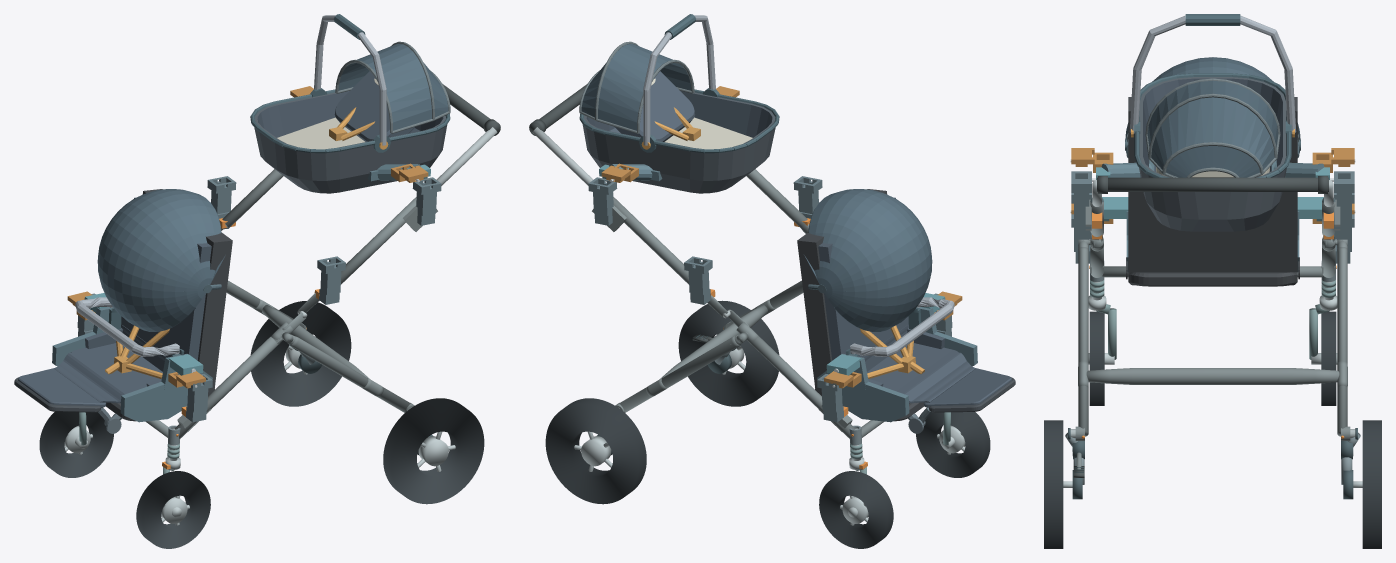
File: D06_w650_state1_wheel_M.glb
The picture shows the model from 3 angles, left to right: view 1: azimuth 30°, elevation 25°; view 2: azimuth 150°, elevation 25°; view 3: azimuth 270°, elevation 25°; orthographic projection. The views are drawn at different scales.
Visible parts, largest first — view 1: D06_Lower, D06_Upper, RL_tire.008, RR_tire.008, FL_tire.008, D06_Lower_Mount_L, FR_tire.008, V46_rear_leg_-1.009, main_lower_-1.009, main_upper_-1.009, Universal_Cabin_Receiver_M_-1, Universal_Cabin_Receiver_H_-1 (+7 smaller); view 2: D06_Lower, D06_Upper, RR_tire.008, RL_tire.008, FR_tire.008, D06_Lower_Mount_L, FL_tire.008, V46_rear_leg_1.009, main_lower_1.009, main_upper_1.009, Universal_Cabin_Receiver_M_1, Universal_Cabin_Receiver_H_1 (+7 smaller); view 3: D06_Upper, D06_Lower, V46_rearbar.009, round_handle.008, RL_tire.008, RR_tire.008, V46_rear_leg_1.009, V46_rear_leg_-1.009, D06_Lower_Mount_L, D06_Upper_Mount_H, FL_tire.008, FR_tire.008 (+7 smaller).
Boxes of the visible parts, x1,y1,x2,y2 form: D06_Lower: [14, 189, 232, 433]; D06_Upper: [250, 14, 450, 193]; RL_tire.008: [383, 398, 484, 504]; RR_tire.008: [250, 301, 351, 406]; FL_tire.008: [136, 471, 210, 548]; D06_Lower_Mount_L: [52, 293, 212, 422]; FR_tire.008: [39, 412, 113, 477]; V46_rear_leg_-1.009: [290, 336, 410, 412]; main_lower_-1.009: [175, 337, 281, 438]; main_upper_-1.009: [341, 197, 416, 284]; Universal_Cabin_Receiver_M_-1: [317, 256, 345, 304]; Universal_Cabin_Receiver_H_-1: [412, 177, 441, 225]; D06_Lower: [797, 189, 1015, 433]; D06_Upper: [579, 14, 779, 193]; RR_tire.008: [545, 398, 646, 504]; RL_tire.008: [678, 300, 779, 406]; FR_tire.008: [819, 471, 893, 548]; D06_Lower_Mount_L: [817, 293, 977, 422]; FL_tire.008: [916, 412, 990, 477]; V46_rear_leg_1.009: [619, 336, 739, 412]; main_lower_1.009: [748, 337, 854, 438]; main_upper_1.009: [613, 197, 688, 284]; Universal_Cabin_Receiver_M_1: [684, 256, 712, 304]; Universal_Cabin_Receiver_H_1: [588, 177, 617, 225]; D06_Upper: [1129, 14, 1296, 231]; D06_Lower: [1125, 57, 1300, 286]; V46_rearbar.009: [1086, 368, 1339, 384]; round_handle.008: [1097, 177, 1328, 191]; RL_tire.008: [1044, 420, 1063, 548]; RR_tire.008: [1362, 420, 1381, 548]; V46_rear_leg_1.009: [1337, 247, 1347, 436]; V46_rear_leg_-1.009: [1078, 247, 1088, 436]; D06_Lower_Mount_L: [1102, 197, 1323, 271]; D06_Upper_Mount_H: [1092, 160, 1333, 181]; FL_tire.008: [1089, 311, 1104, 405]; FR_tire.008: [1321, 311, 1336, 405].
Bounding box in the file's own units: 1.36 × 1.33 × 0.7871.
